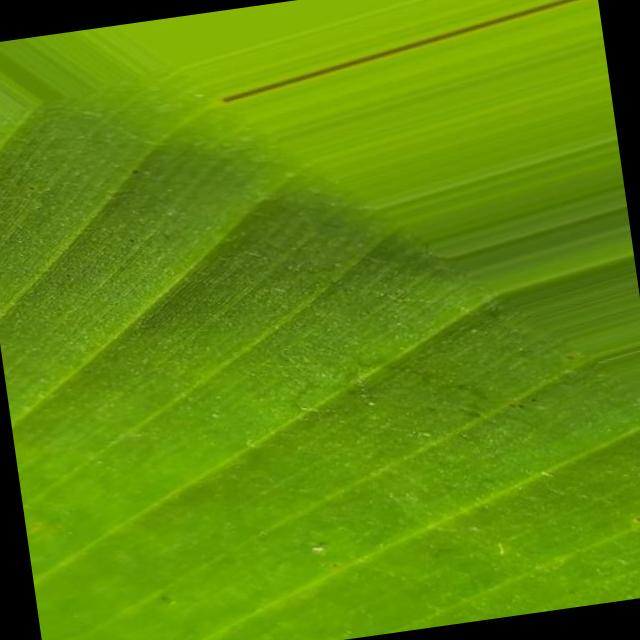Banana_Healthy: (29, 162, 532, 640)
